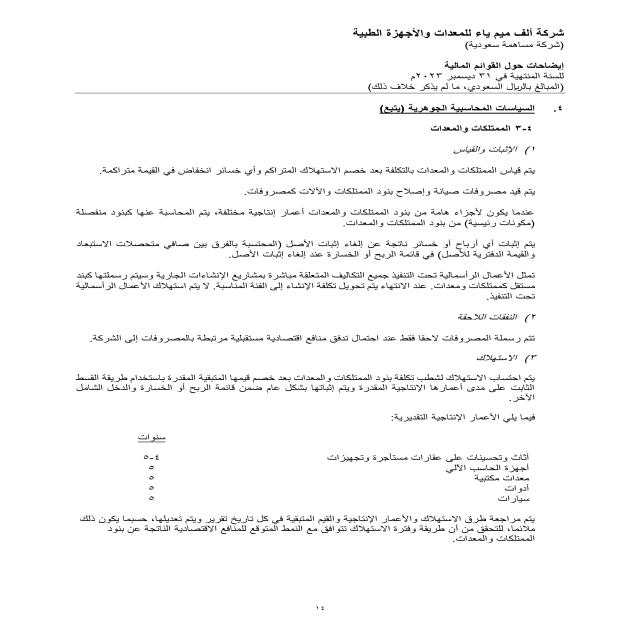notes: (421, 62, 572, 70)
text: (56, 95, 548, 588)
